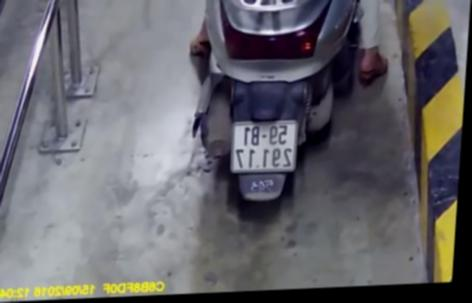License_Plate: (223, 115, 308, 182)
